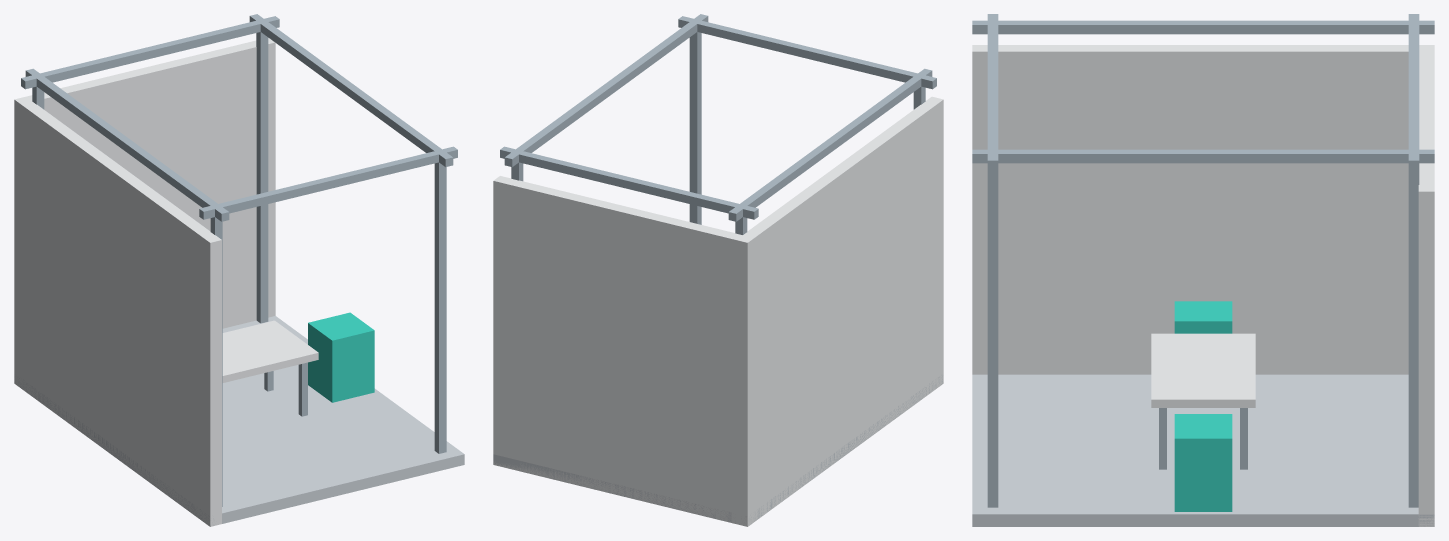
The picture shows the model from 3 angles, left to right: view 1: azimuth 30°, elevation 25°; view 2: azimuth 150°, elevation 25°; view 3: azimuth 270°, elevation 25°; orthographic projection. The views are drawn at different scales.
Visible parts, largest first — view 1: Exhibition Booth Concept; view 2: Exhibition Booth Concept; view 3: Exhibition Booth Concept.
Part boxes in pixels (<box>): Exhibition Booth Concept: <box>14,14,464,526</box>; Exhibition Booth Concept: <box>493,14,943,526</box>; Exhibition Booth Concept: <box>972,14,1434,526</box>.
Size of the model in its own units: 3 by 3.49 by 4.
